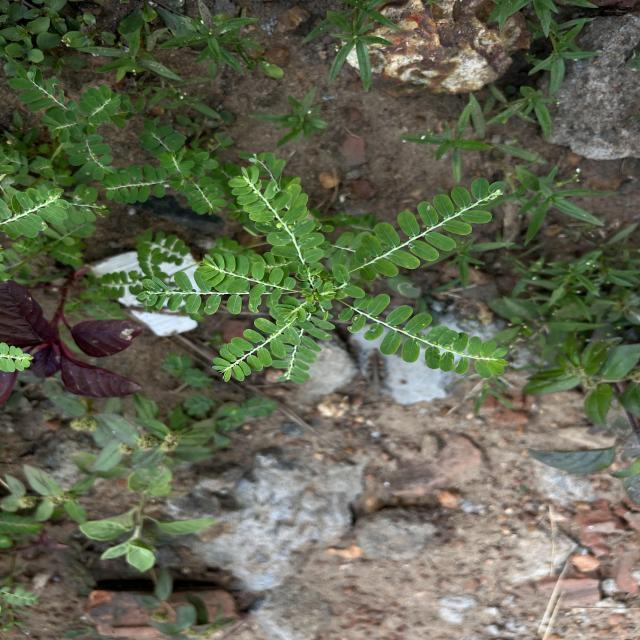Phyllanthus niruri: (344, 175, 509, 284), (337, 292, 512, 380), (227, 163, 326, 268), (209, 301, 314, 385), (130, 278, 266, 316), (195, 250, 296, 295)
